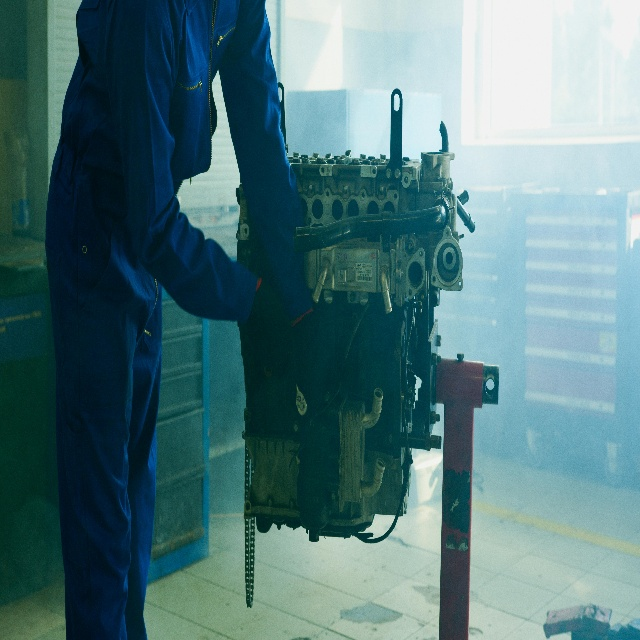Guantes: (249, 275, 294, 379), (292, 310, 332, 390)
